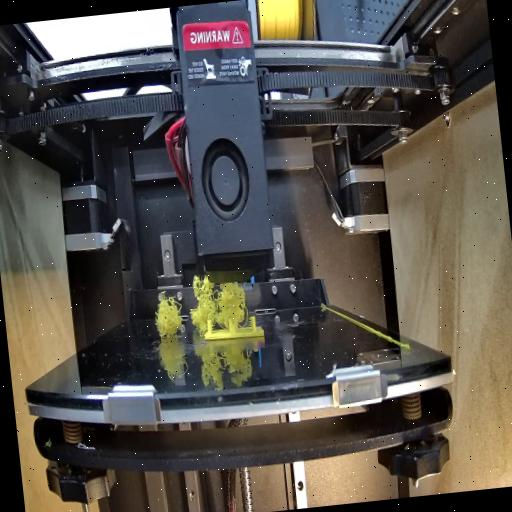spaghetti: (187, 268, 253, 334), (149, 298, 184, 344)
